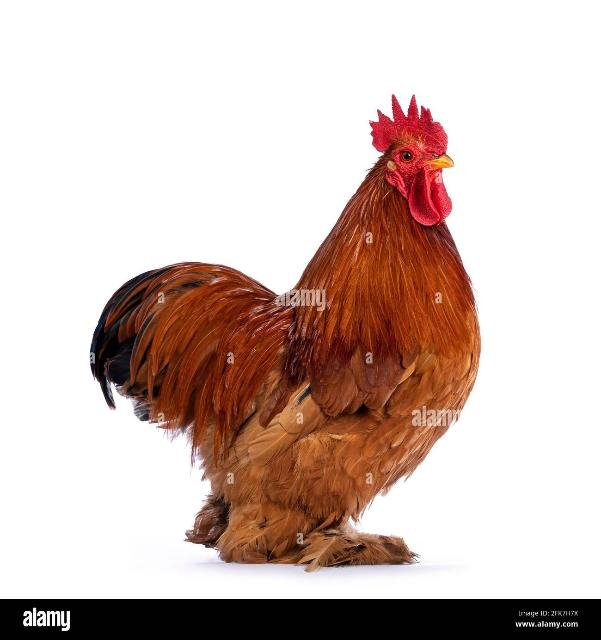Chicken: (88, 90, 478, 563)
